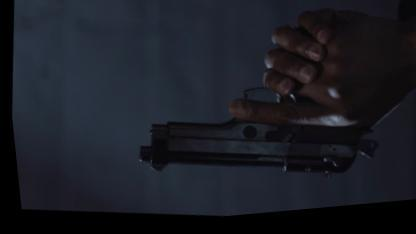pistol: (122, 15, 395, 206)
